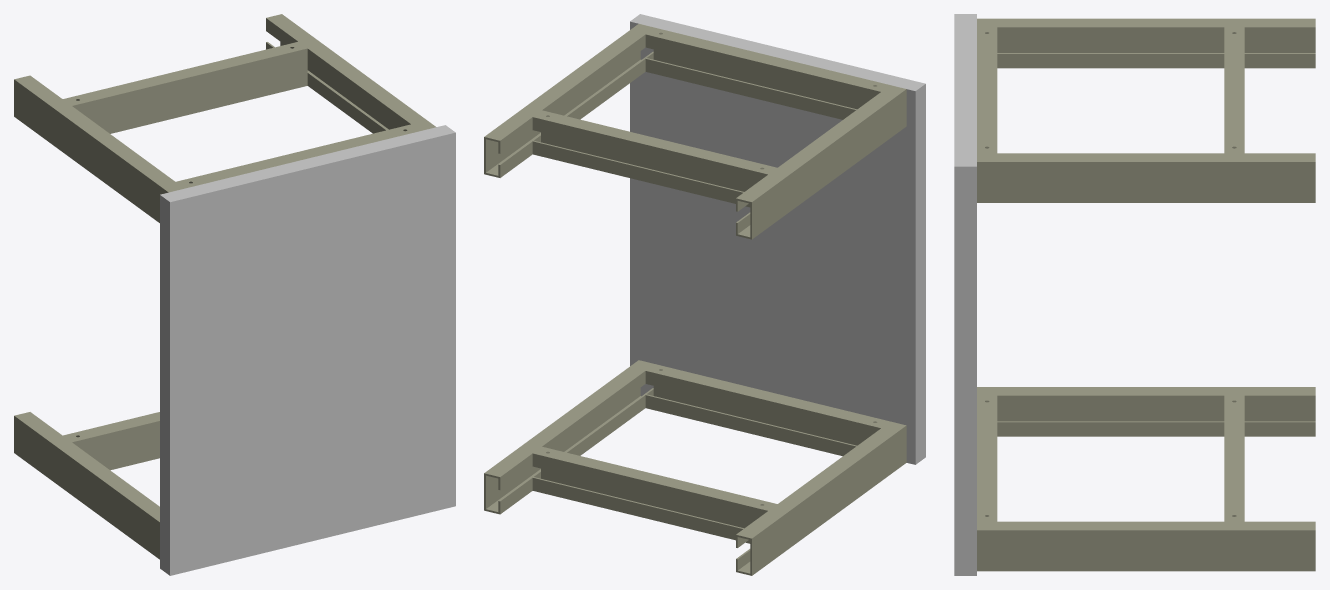
The model's file is table.obj.
3 renders of one model, left to right at view 1: azimuth 30°, elevation 25°; view 2: azimuth 150°, elevation 25°; view 3: azimuth 270°, elevation 25°, orthographic. The views are drawn at different scales.
Visible parts, largest first — view 1: table_top, Cube.008, Cube.005, Cube.001, Cube.003, Cube.004, Cube.006; view 2: table_top, Cube.004, Cube.008, Cube.006, Cube.007, Cube.001, Cube.005, Cube.003, Cube.002; view 3: Cube.002, Cube.003, Cube.005, Cube.001, table_top, Cube.004, Cube.008, Cube.007, Cube.006.
Part boxes in pixels (left/top/right/bottom): table_top: left=160, top=125, right=455, bottom=575; Cube.008: left=63, top=41, right=307, bottom=133; Cube.005: left=14, top=75, right=184, bottom=222; Cube.001: left=14, top=412, right=159, bottom=559; Cube.003: left=266, top=14, right=436, bottom=133; Cube.004: left=63, top=412, right=159, bottom=470; Cube.006: left=176, top=124, right=419, bottom=188; table_top: left=630, top=14, right=925, bottom=464; Cube.004: left=532, top=446, right=777, bottom=543; Cube.008: left=532, top=110, right=777, bottom=207; Cube.006: left=645, top=27, right=890, bottom=119; Cube.007: left=645, top=364, right=889, bottom=456; Cube.001: left=736, top=421, right=906, bottom=575; Cube.005: left=736, top=85, right=906, bottom=239; Cube.003: left=484, top=24, right=654, bottom=177; Cube.002: left=484, top=360, right=654, bottom=514; Cube.002: left=977, top=521, right=1315, bottom=571; Cube.003: left=977, top=153, right=1315, bottom=202; Cube.005: left=977, top=18, right=1315, bottom=68; Cube.001: left=977, top=387, right=1315, bottom=436; table_top: left=954, top=14, right=976, bottom=575; Cube.004: left=1224, top=395, right=1244, bottom=521; Cube.008: left=1224, top=27, right=1244, bottom=153; Cube.007: left=977, top=395, right=997, bottom=521; Cube.006: left=977, top=27, right=997, bottom=153.
Size of the model in its own units: 0.8 by 1 by 0.8.
